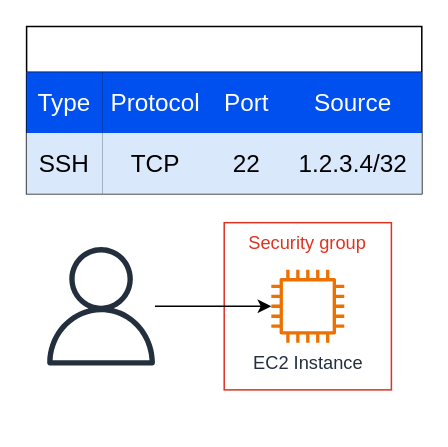
This 448x447 diagram has some shape labels left out. The box of each missing label's shape, as (x1, y1, x2, y2) in pixels:
Inbound Rules: (25, 25, 422, 194)
User (IPv4: 1.2.3.4): (41, 246, 160, 365)
